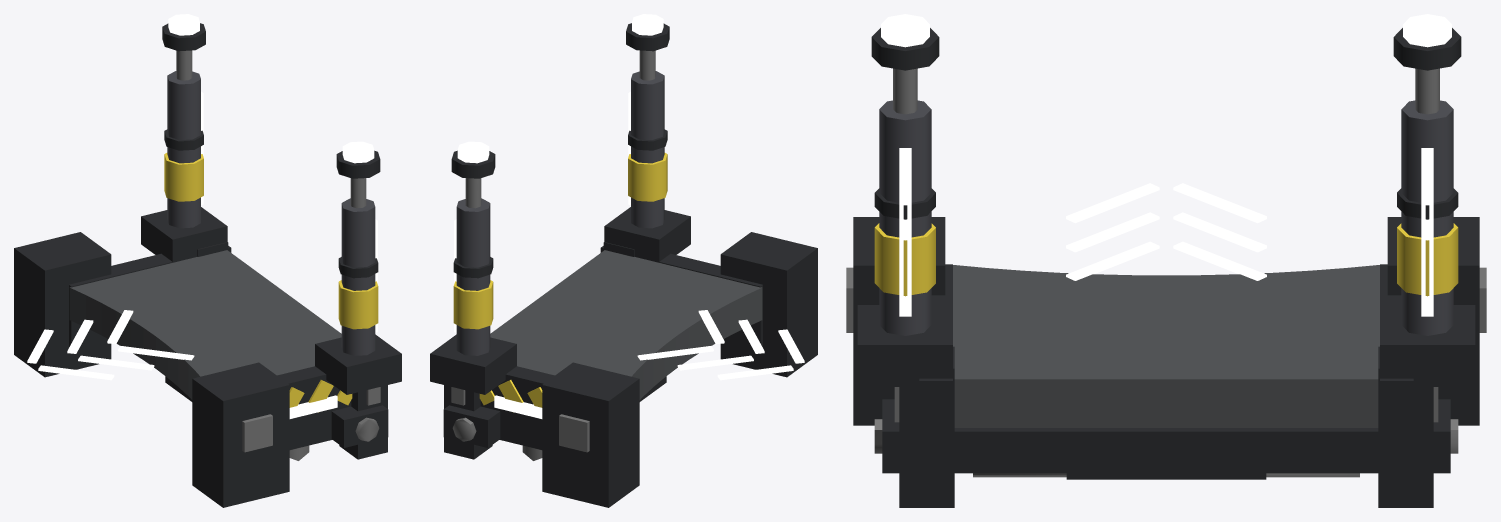
File: Relay_Retract_v2.glb
3 views of the same model, side by side, from view 1: azimuth 30°, elevation 25°; view 2: azimuth 150°, elevation 25°; view 3: azimuth 270°, elevation 25° (orthographic). The views are drawn at different scales.
Parts seen in each view (by area): view 1: Relay_Retract_v2; view 2: Relay_Retract_v2; view 3: Relay_Retract_v2.
Part boxes in pixels (bbox=[...]): Relay_Retract_v2: bbox=[14, 14, 401, 507]; Relay_Retract_v2: bbox=[430, 14, 817, 507]; Relay_Retract_v2: bbox=[846, 14, 1486, 507].
Size of the model in its own units: 3.04 by 3.45 by 4.17.
